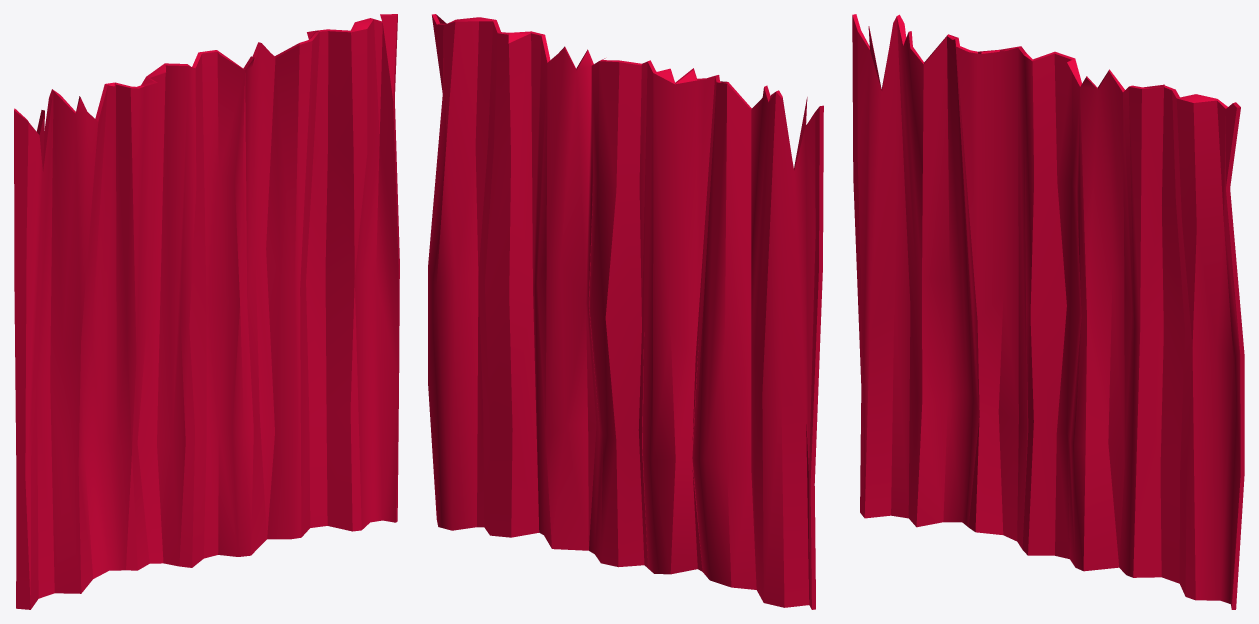
File: panel5.fbx
3 views of the same model, side by side, from view 1: azimuth 30°, elevation 25°; view 2: azimuth 150°, elevation 25°; view 3: azimuth 330°, elevation 25° (orthographic).
Parts seen in each view (by area): view 1: panel5; view 2: panel5; view 3: panel5.
Part boxes in pixels (<box>): panel5: <box>14,14,399,609</box>; panel5: <box>428,14,823,609</box>; panel5: <box>852,14,1244,609</box>.
Bounding box in the file's own units: 0.5152 × 0.6478 × 0.0556.
